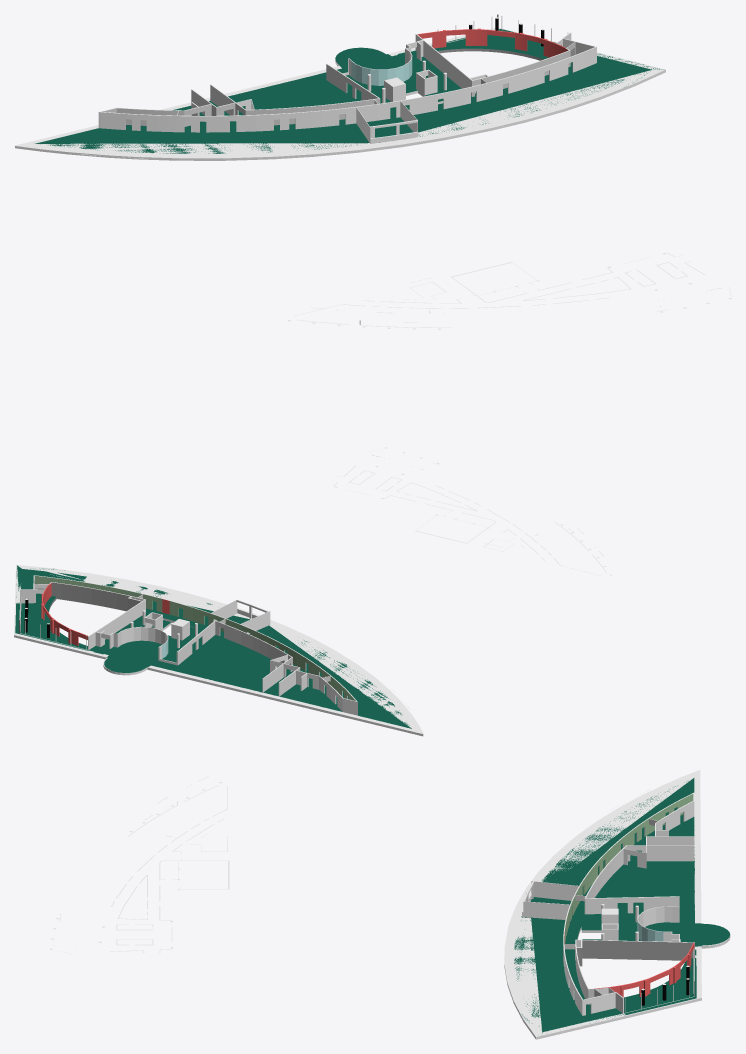
3 views of the same model, one above another, from view 1: azimuth 30°, elevation 25°; view 2: azimuth 150°, elevation 25°; view 3: azimuth 270°, elevation 25° (orthographic). The views are drawn at different scales.
Visible parts, largest first — view 1: Model; view 2: Model; view 3: Model.
Boxes of the visible parts, x1,y1,x2,y2 form: Model: (14, 14, 731, 329); Model: (14, 447, 612, 736); Model: (49, 770, 730, 1039).
Bounding box in the file's own units: 113492 × 6597 × 126761.
